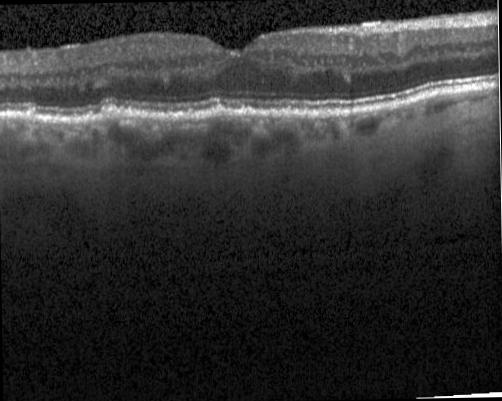retinal_drusen: (177, 107, 196, 121), (211, 104, 232, 116), (244, 109, 263, 118), (375, 102, 393, 111), (317, 110, 332, 118), (108, 108, 118, 119), (21, 114, 33, 123), (45, 117, 61, 123), (301, 109, 311, 118), (350, 106, 360, 115), (101, 107, 108, 118), (164, 112, 173, 120), (268, 110, 276, 118), (284, 109, 292, 117), (35, 116, 44, 123), (333, 110, 342, 117), (119, 108, 126, 116), (84, 115, 91, 123), (293, 110, 300, 118), (71, 118, 82, 123), (128, 107, 134, 116), (277, 109, 283, 118), (366, 106, 374, 112), (9, 113, 15, 120), (93, 116, 100, 122), (198, 112, 205, 118), (16, 113, 21, 121), (63, 119, 70, 124), (312, 112, 317, 119), (0, 114, 4, 120), (343, 111, 349, 115), (4, 114, 8, 119)
